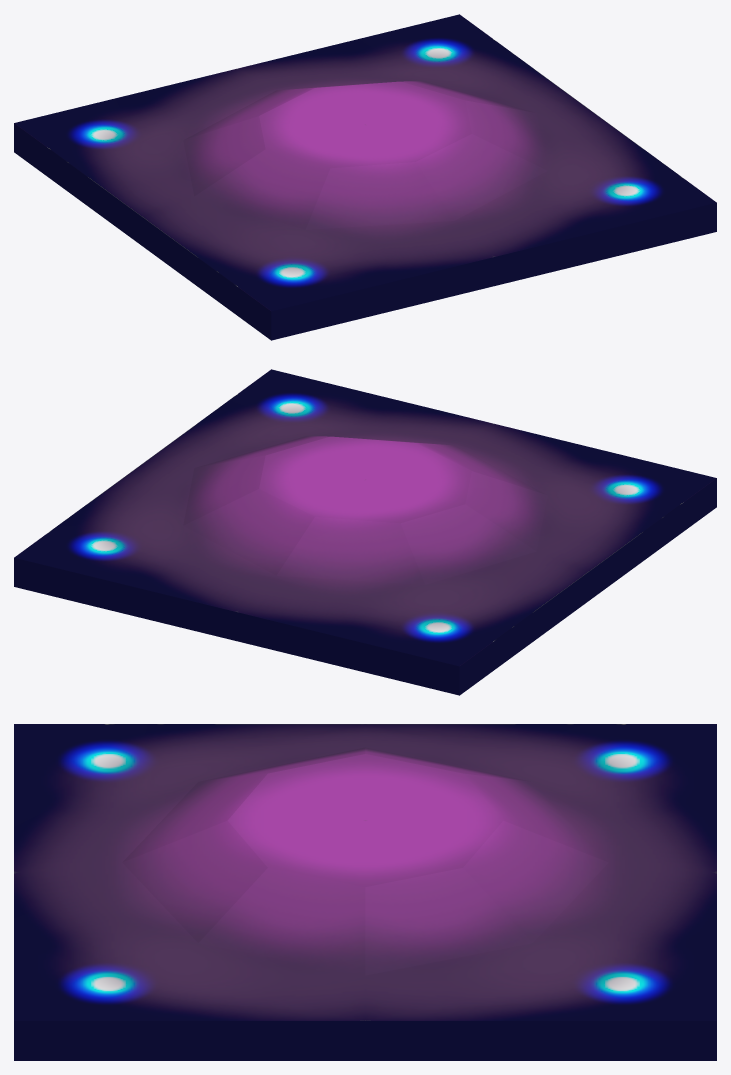
File: urban_centrebump.gltf
3 renders of one model, top to bottom at view 1: azimuth 30°, elevation 25°; view 2: azimuth 150°, elevation 25°; view 3: azimuth 270°, elevation 25°, orthographic. The views are drawn at different scales.
Parts seen in each view (by area): view 1: urban_centrebump_glb; view 2: urban_centrebump_glb; view 3: urban_centrebump_glb.
Boxes of the visible parts, x1,y1,x2,y2 form: urban_centrebump_glb: [14, 14, 716, 340]; urban_centrebump_glb: [14, 369, 716, 695]; urban_centrebump_glb: [14, 724, 716, 1060].
Size of what is drawn, in the model's own units: 4 by 0.5764 by 4.
Materials: 1 (1 with a texture image).
